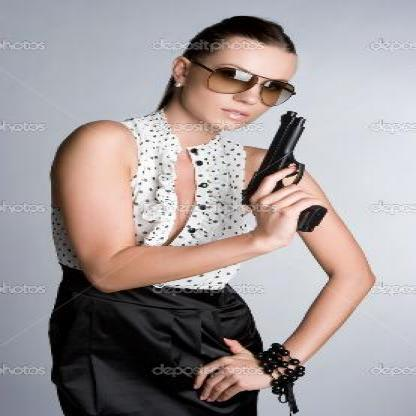pistol: (236, 110, 324, 238)
